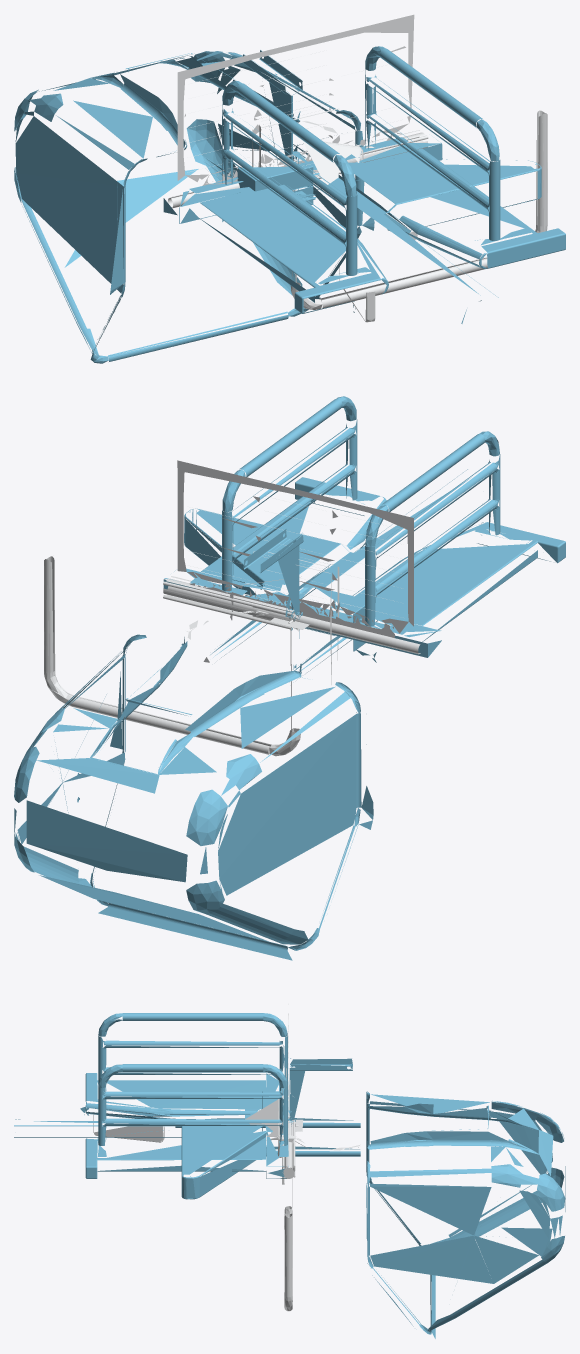
Rendered from ric_station_optimized.glb.
3 views of the same model, one above another, from view 1: azimuth 30°, elevation 25°; view 2: azimuth 150°, elevation 25°; view 3: azimuth 270°, elevation 25° (orthographic). The views are drawn at different scales.
Parts seen in each view (by area): view 1: geometry_0, geometry_1; view 2: geometry_0, geometry_1; view 3: geometry_0, geometry_1.
Part boxes in pixels (x1=…): geometry_0: x1=14, y1=46, x2=565, y2=363; geometry_1: x1=167, y1=14, x2=547, y2=322; geometry_0: x1=14, y1=396, x2=565, y2=960; geometry_1: x1=44, y1=460, x2=420, y2=756; geometry_0: x1=14, y1=1013, x2=565, y2=1338; geometry_1: x1=93, y1=1004, x2=360, y2=1311.
Size of the model in its own units: 1.67 by 1.56 by 2.84.
